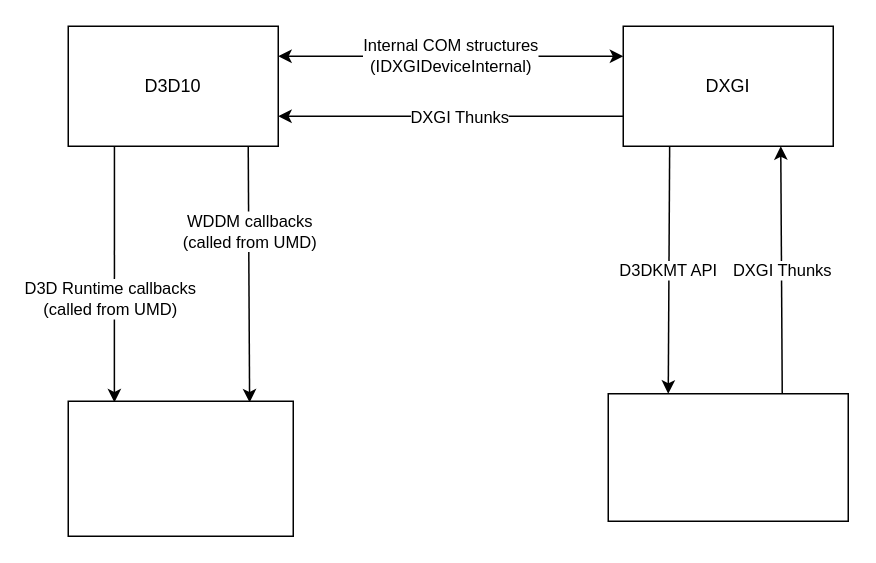
This 876x563 diagram has some shape labels left out. The centre of each missing label's shape, as x and y in pixels:
Kernel components (GDI32, Dxgkrnl, ...): (x=727, y=456)
UMD: (x=180, y=468)
